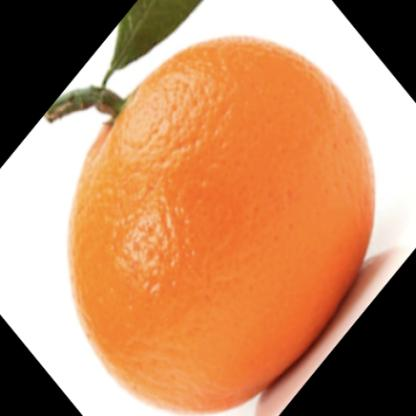fresh: (67, 34, 375, 416)
